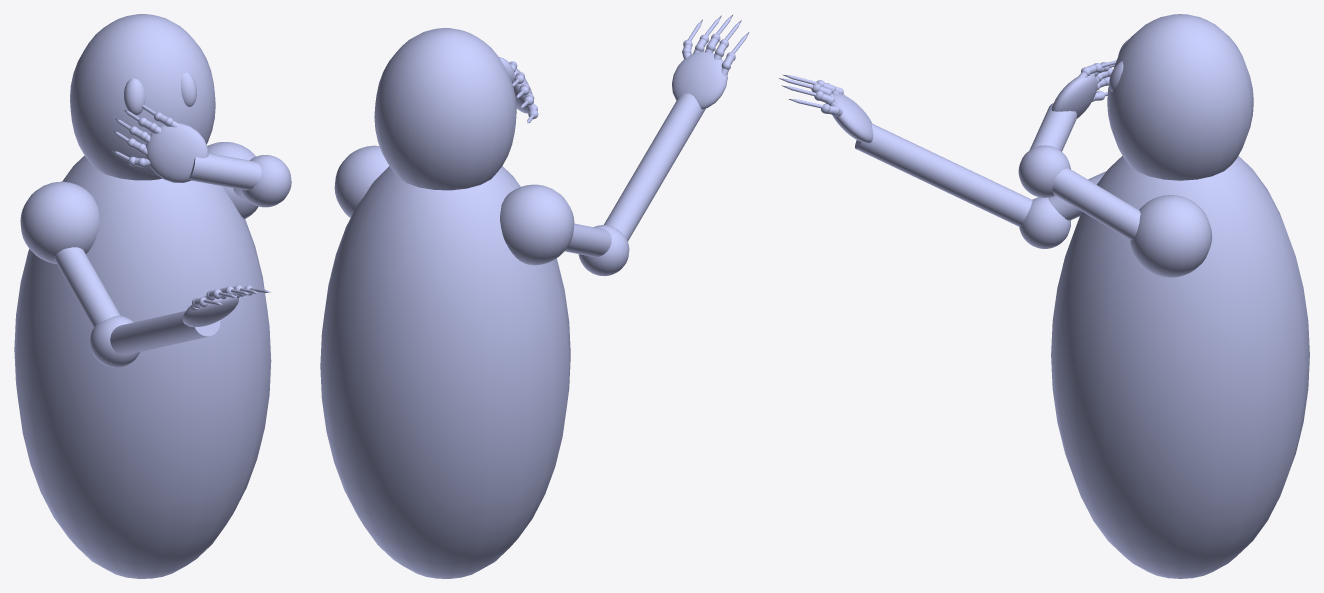
The model's file is Ghost_Anxiety.FBX.
3 renders of one model, left to right at view 1: azimuth 30°, elevation 25°; view 2: azimuth 150°, elevation 25°; view 3: azimuth 270°, elevation 25°, orthographic. The views are drawn at different scales.
Visible parts, largest first — view 1: Ghost_Anxiety; view 2: Ghost_Anxiety; view 3: Ghost_Anxiety.
Boxes of the visible parts, <box> form: Ghost_Anxiety: <box>14,14,291,578</box>; Ghost_Anxiety: <box>320,15,749,578</box>; Ghost_Anxiety: <box>779,14,1309,578</box>.
Size of what is drawn, in the model's own units: 13.78 by 26.97 by 30.95.
